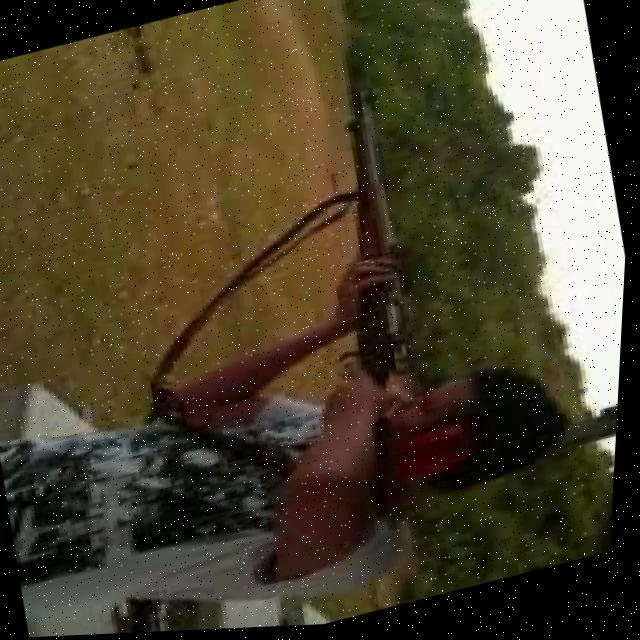firearm: (269, 77, 464, 478)
